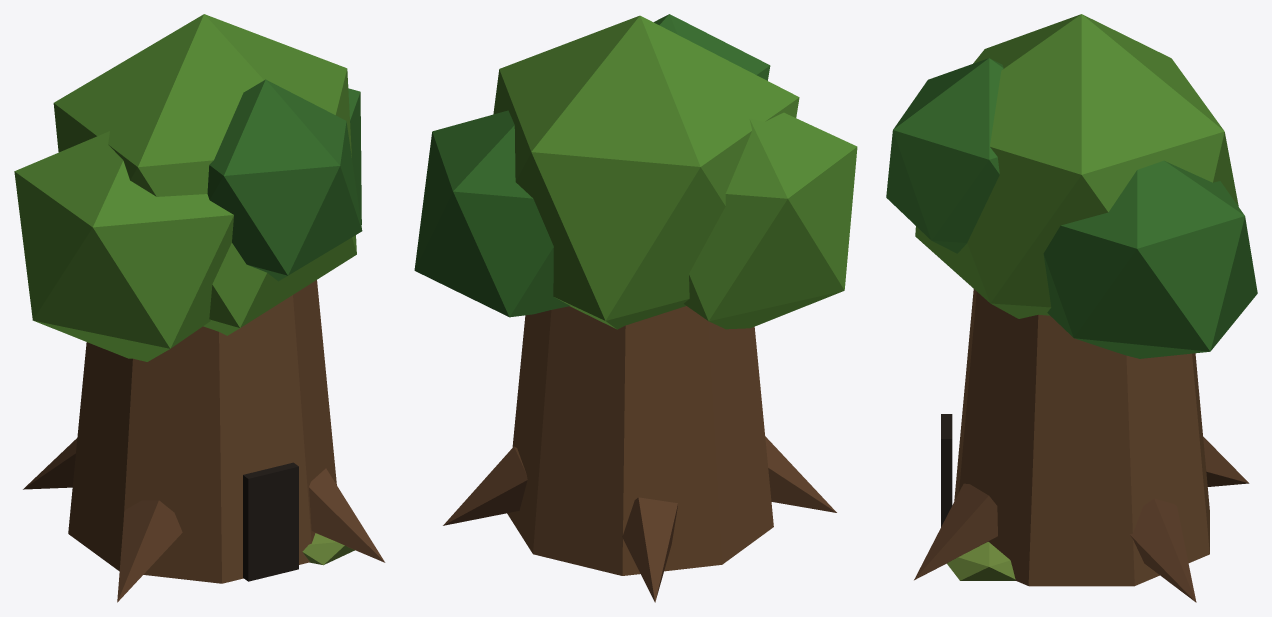
Rendered from treekin_house_b_broken.glb.
The picture shows the model from 3 angles, left to right: view 1: azimuth 30°, elevation 25°; view 2: azimuth 150°, elevation 25°; view 3: azimuth 270°, elevation 25°; orthographic projection. The views are drawn at different scales.
Visible parts, largest first — view 1: treekin_house_b_piece4, treekin_house_b_piece2, treekin_house_b_piece9, treekin_house_b_piece6, treekin_house_b_piece1, treekin_house_b_piece11, treekin_house_b_piece7, treekin_house_b_piece5, treekin_house_b_piece12; view 2: treekin_house_b_piece3, treekin_house_b_piece11, treekin_house_b_piece7, treekin_house_b_piece8, treekin_house_b_piece1, treekin_house_b_piece0, treekin_house_b_piece9, treekin_house_b_piece10, treekin_house_b_piece4, treekin_house_b_piece5, treekin_house_b_piece6; view 3: treekin_house_b_piece9, treekin_house_b_piece8, treekin_house_b_piece5, treekin_house_b_piece0, treekin_house_b_piece2, treekin_house_b_piece12, treekin_house_b_piece6, treekin_house_b_piece10, treekin_house_b_piece3, treekin_house_b_piece7, treekin_house_b_piece11.
Part boxes in pixels (x1,y1,x2,y2): treekin_house_b_piece4: (36,175,260,583); treekin_house_b_piece2: (145,178,385,578); treekin_house_b_piece9: (152,14,362,323); treekin_house_b_piece6: (117,61,313,424); treekin_house_b_piece1: (18,180,198,602); treekin_house_b_piece11: (14,45,166,190); treekin_house_b_piece7: (17,189,105,560); treekin_house_b_piece5: (310,88,361,459); treekin_house_b_piece12: (320,383,336,484); treekin_house_b_piece3: (505,161,756,571); treekin_house_b_piece11: (610,56,800,284); treekin_house_b_piece7: (603,206,800,602); treekin_house_b_piece8: (414,156,545,530); treekin_house_b_piece1: (718,180,846,537); treekin_house_b_piece0: (439,142,586,370); treekin_house_b_piece9: (496,14,740,119); treekin_house_b_piece10: (471,90,732,259); treekin_house_b_piece4: (800,120,857,270); treekin_house_b_piece5: (427,85,546,171); treekin_house_b_piece6: (684,47,799,117); treekin_house_b_piece9: (887,14,1169,360); treekin_house_b_piece8: (1027,207,1256,602); treekin_house_b_piece5: (983,118,1188,487); treekin_house_b_piece0: (1032,113,1239,448); treekin_house_b_piece2: (886,187,1020,582); treekin_house_b_piece12: (996,442,1106,585); treekin_house_b_piece6: (887,27,1043,436); treekin_house_b_piece10: (1141,72,1214,202); treekin_house_b_piece3: (1176,166,1257,562); treekin_house_b_piece7: (1203,436,1249,518); treekin_house_b_piece11: (1114,30,1181,77).
Bounding box in the file's own units: 2.36 × 3.16 × 2.01.
